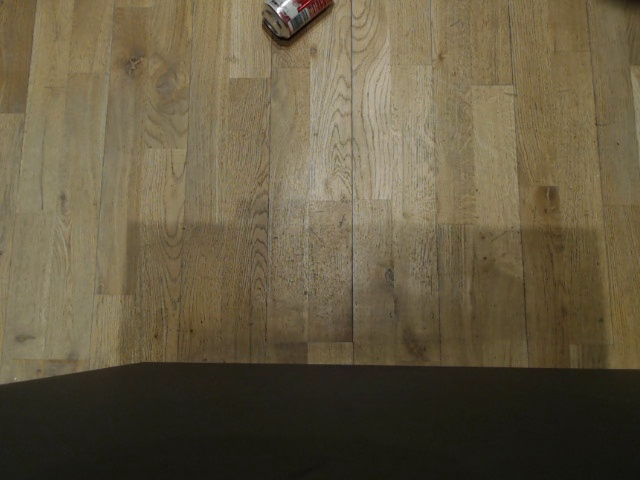cola: (258, 0, 336, 40)
